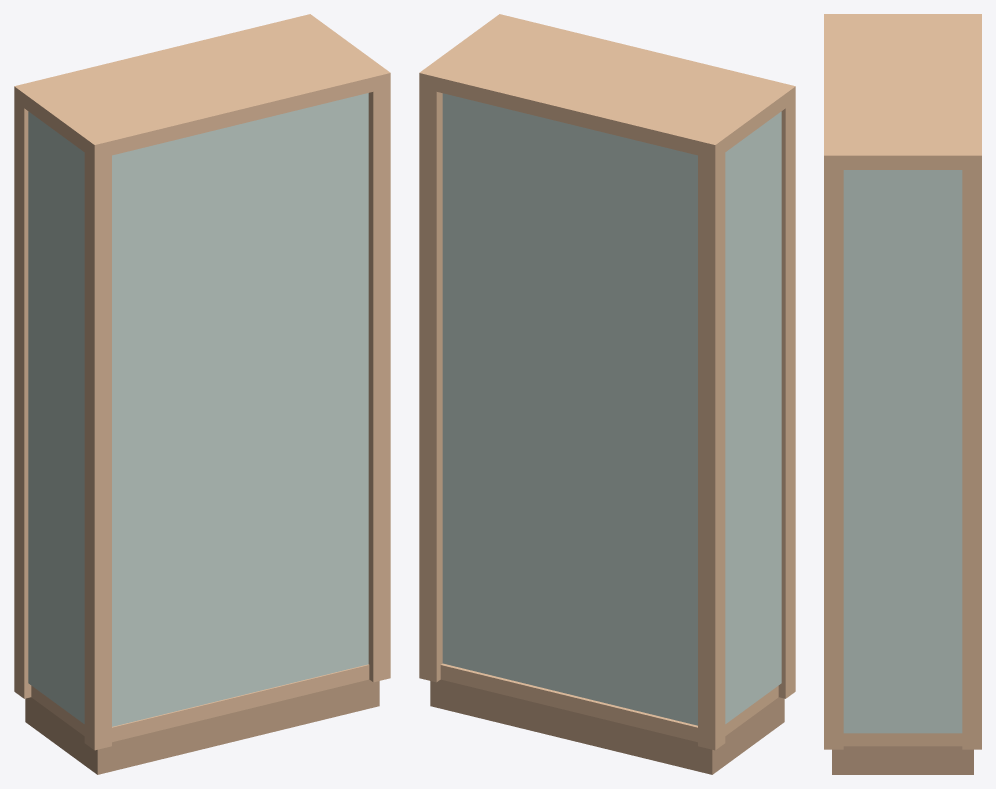
Rendered from displayCabinet.glb.
3 views of the same model, side by side, from view 1: azimuth 30°, elevation 25°; view 2: azimuth 150°, elevation 25°; view 3: azimuth 270°, elevation 25° (orthographic).
Parts seen in each view (by area): view 1: displayCabinet; view 2: displayCabinet; view 3: displayCabinet.
Part boxes in pixels (left/top/right/bottom): displayCabinet: left=14, top=14, right=390, bottom=774; displayCabinet: left=419, top=14, right=795, bottom=774; displayCabinet: left=824, top=14, right=981, bottom=774.
Size of the model in its own units: 0.425 by 0.87 by 0.2.
